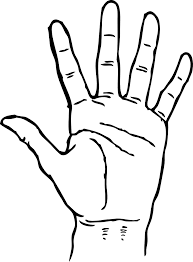palm: (66, 103, 159, 210)
